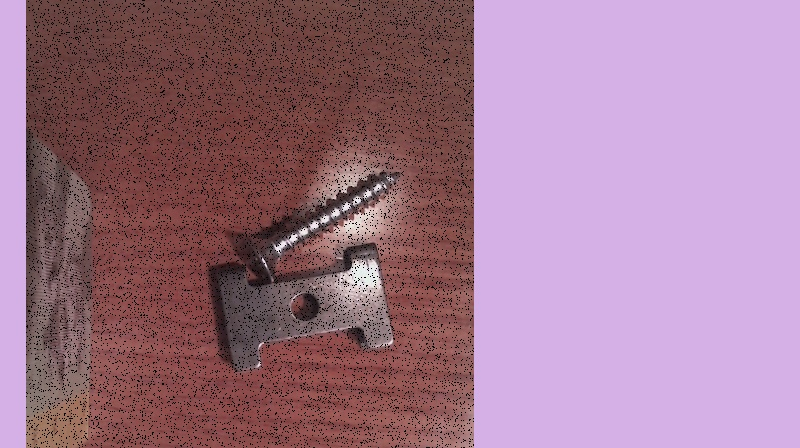O002: (207, 239, 394, 372)
S001: (231, 168, 401, 285)
